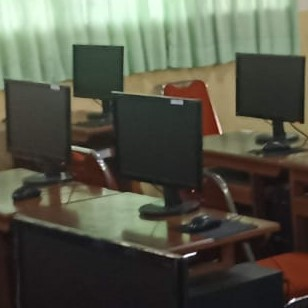monitor: (110, 91, 203, 191), (4, 79, 72, 184), (235, 53, 305, 124), (72, 44, 124, 101)
